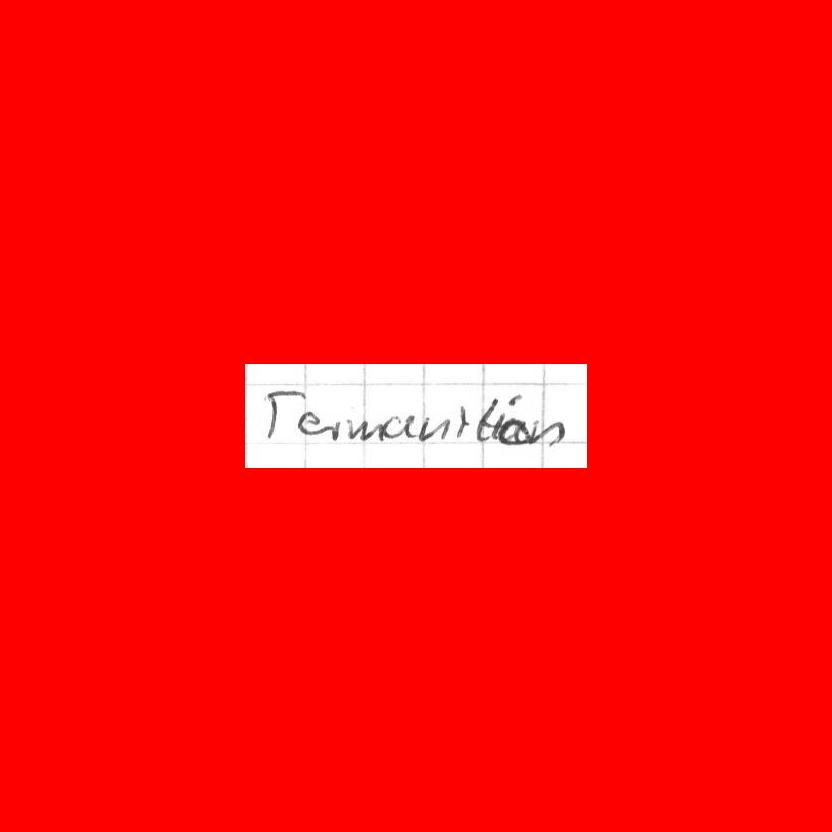Char: (263, 388, 303, 441), (528, 415, 568, 448), (474, 395, 497, 445), (416, 414, 453, 443), (498, 415, 530, 448), (345, 416, 382, 443), (381, 411, 415, 440), (295, 408, 322, 437), (456, 402, 471, 442), (325, 417, 342, 443)
